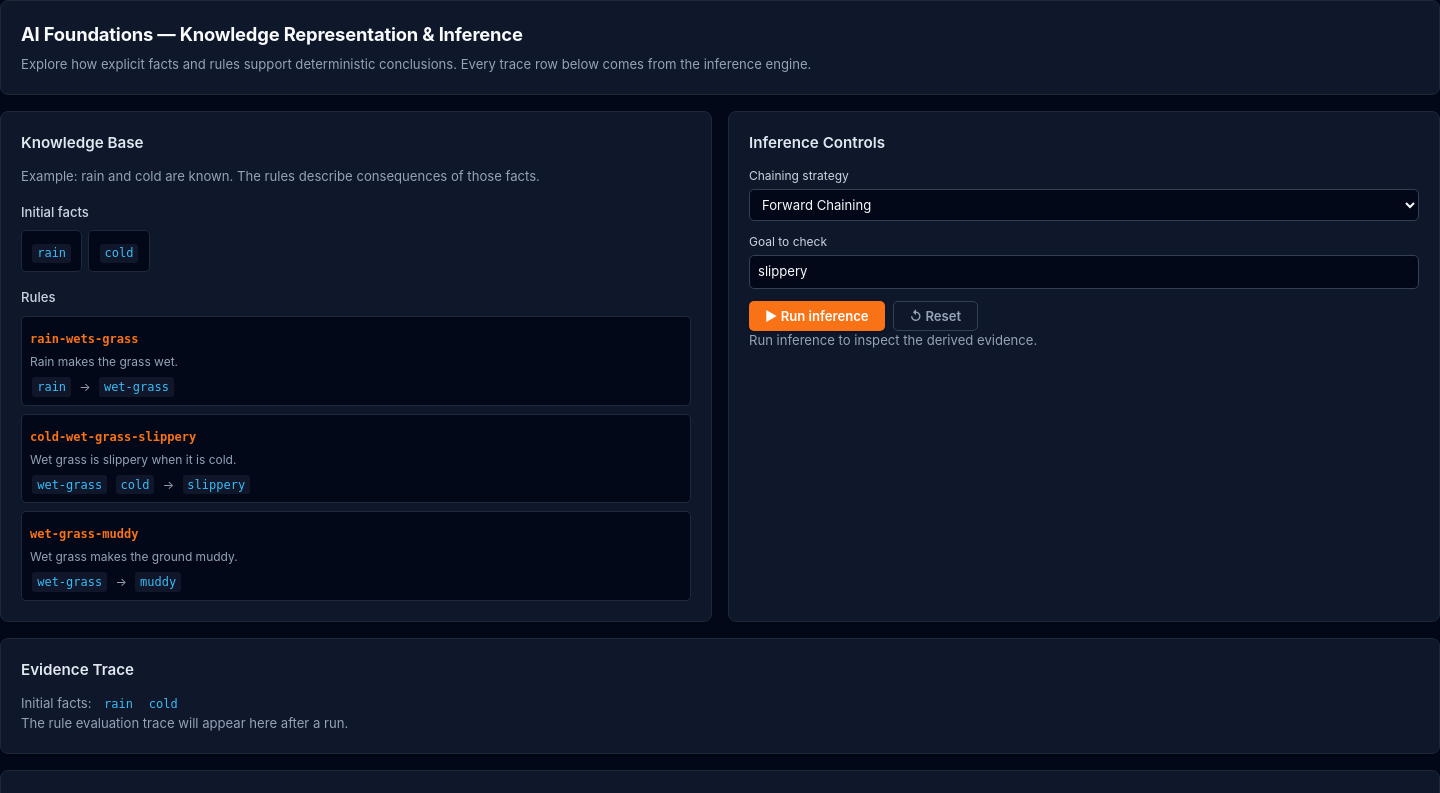
Scenario: KnowledgeLab › uses forward chaining to derive a multi-step conclusion
The image size is (1440, 793).
Click the button "▶ Run inference".
click(817, 316)  # box [749,301,885,331]
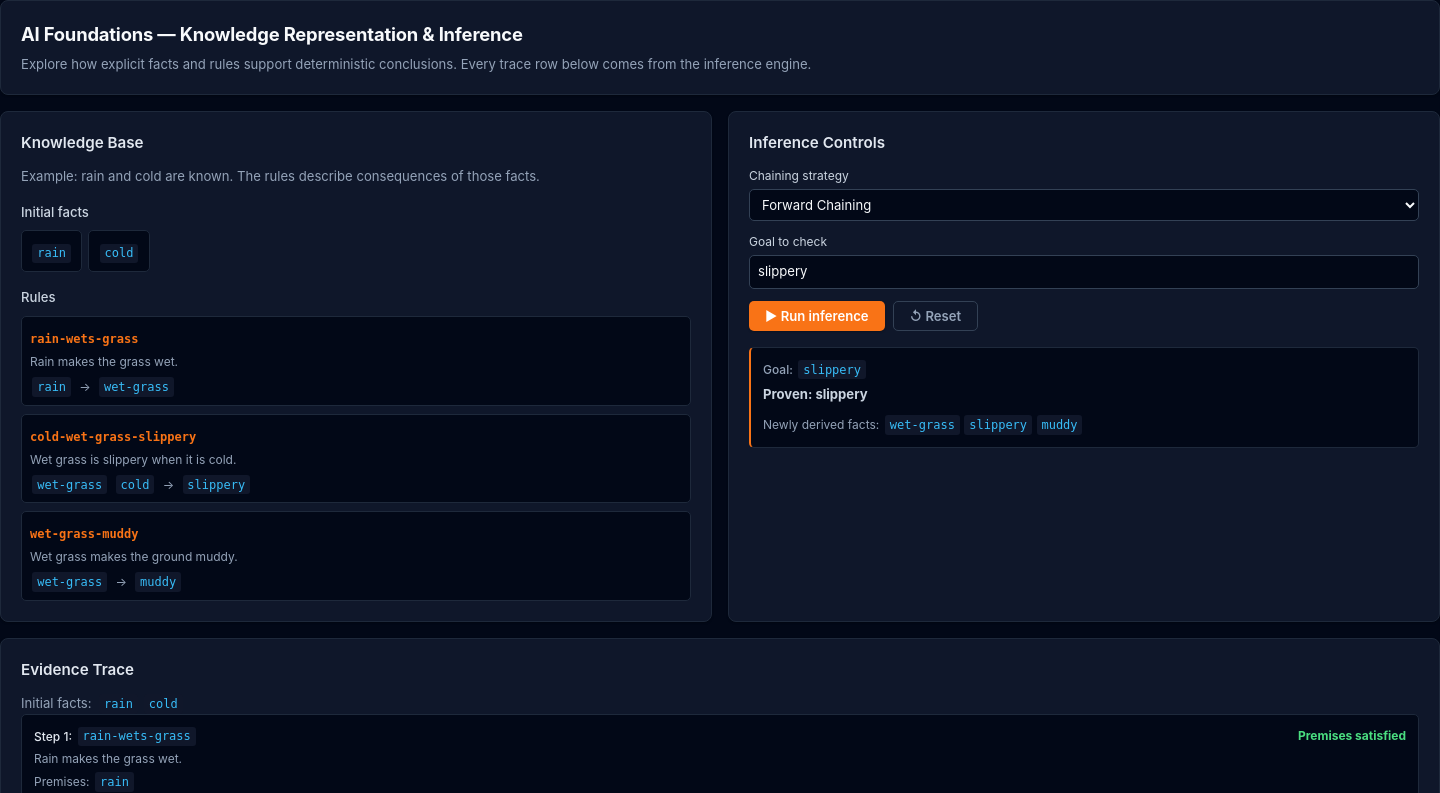
Expected: the message shows "Proven: slippery", [763,386,868,402]
Expected: the message shows "wet-grass", [890,418,955,432]
Expected: the message shows "slippery", [803,362,861,376]
